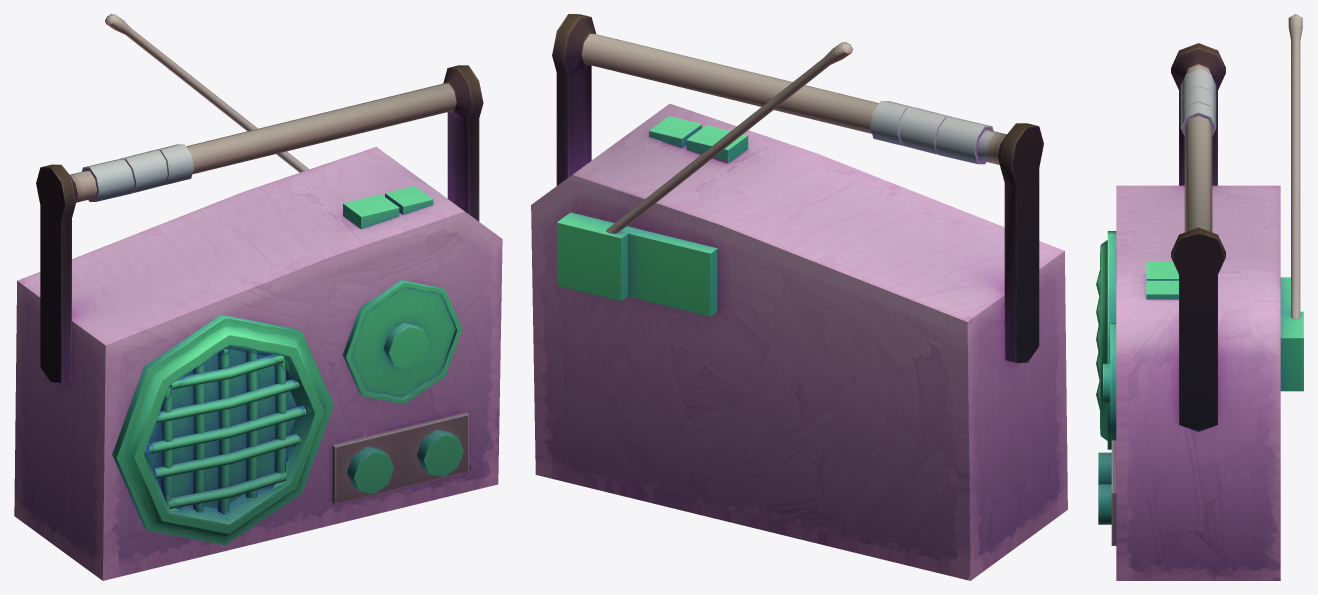
The model's file is Radio.fbx.
The picture shows the model from 3 angles, left to right: view 1: azimuth 30°, elevation 25°; view 2: azimuth 150°, elevation 25°; view 3: azimuth 270°, elevation 25°; orthographic projection. The views are drawn at different scales.
Parts seen in each view (by area): view 1: Radio; view 2: Radio; view 3: Radio.
Boxes of the visible parts, <box> form: Radio: <box>14,14,502,580</box>; Radio: <box>531,14,1067,580</box>; Radio: <box>1096,14,1303,580</box>.
Size of the model in its own units: 0.4148 by 0.445 by 0.1927.
